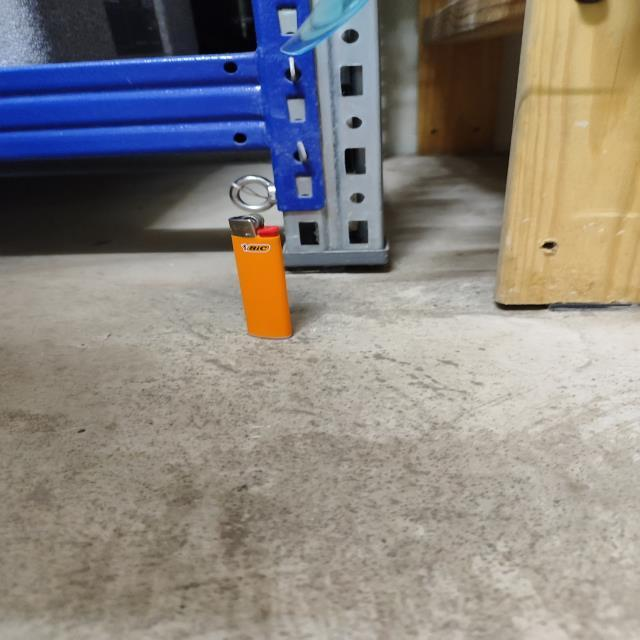lighter: (230, 215, 292, 338)
